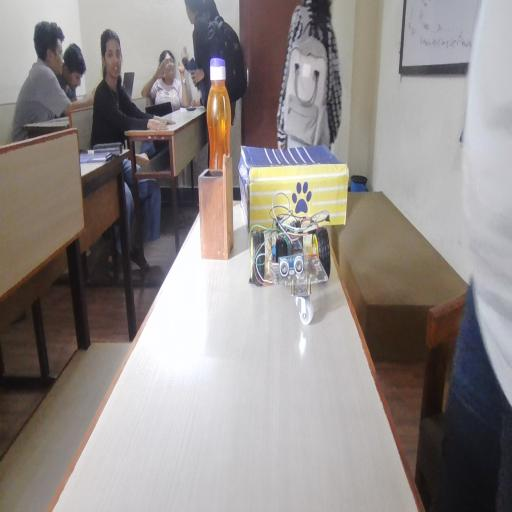Bottle: (197, 49, 238, 161)
car: (230, 205, 350, 341)
